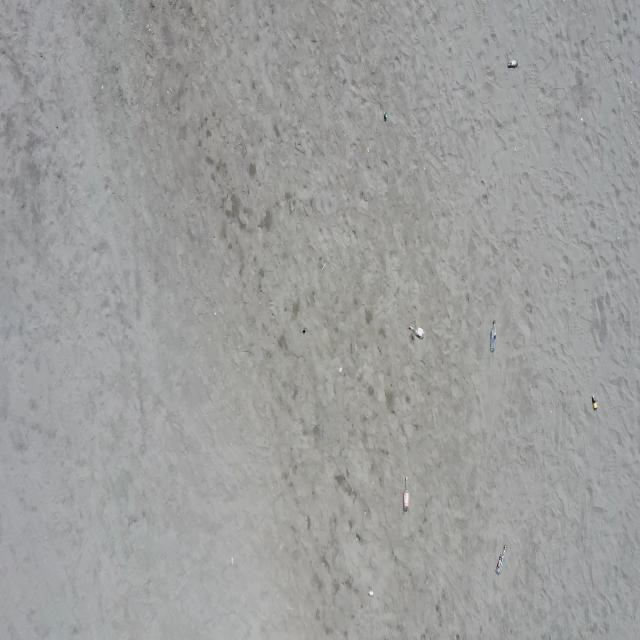glass: (496, 544, 507, 575), (403, 476, 410, 512), (408, 325, 424, 339), (489, 320, 496, 350), (591, 395, 597, 410), (508, 59, 518, 68), (367, 590, 374, 596)
